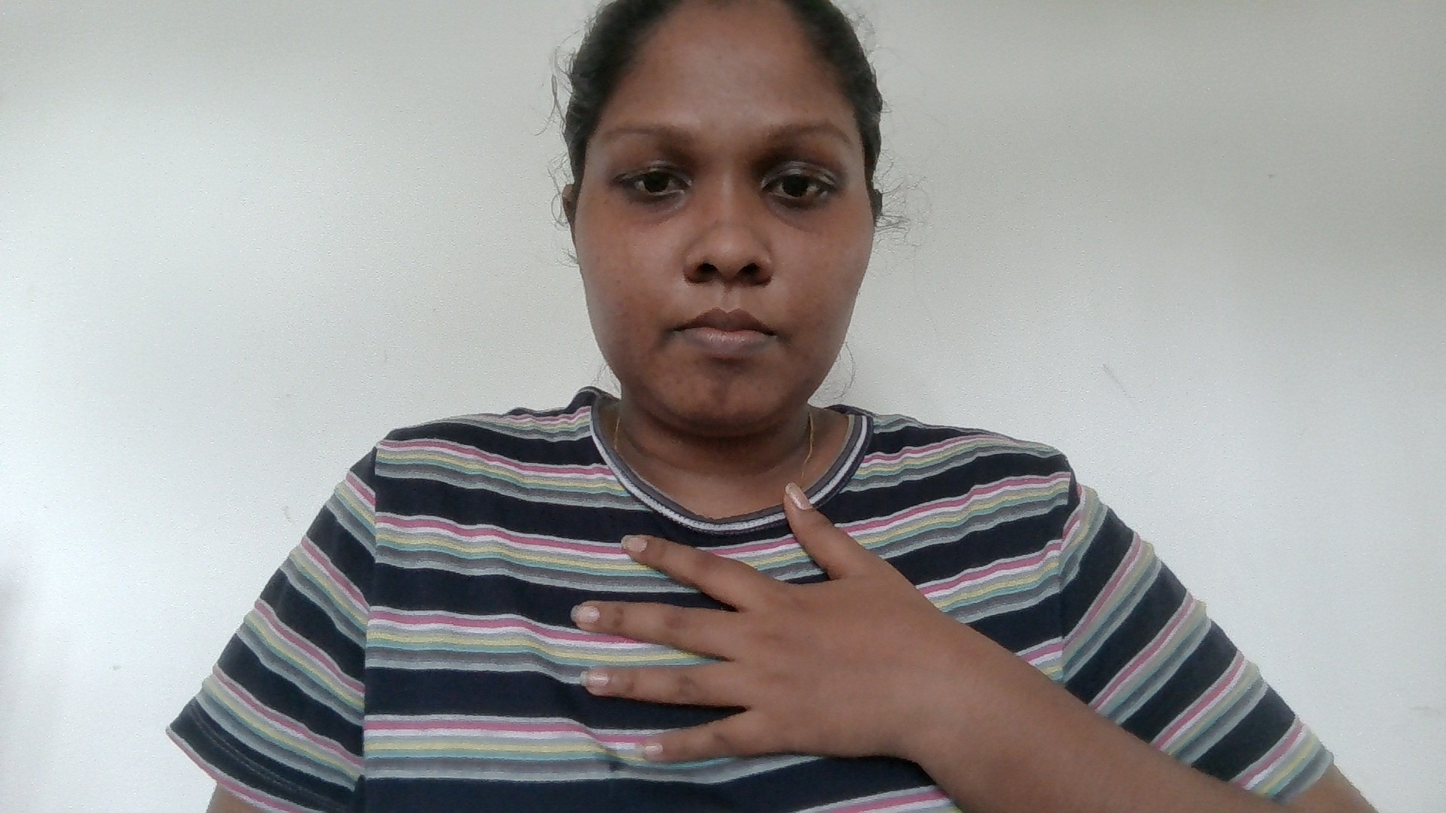Please: (561, 473, 991, 813)
